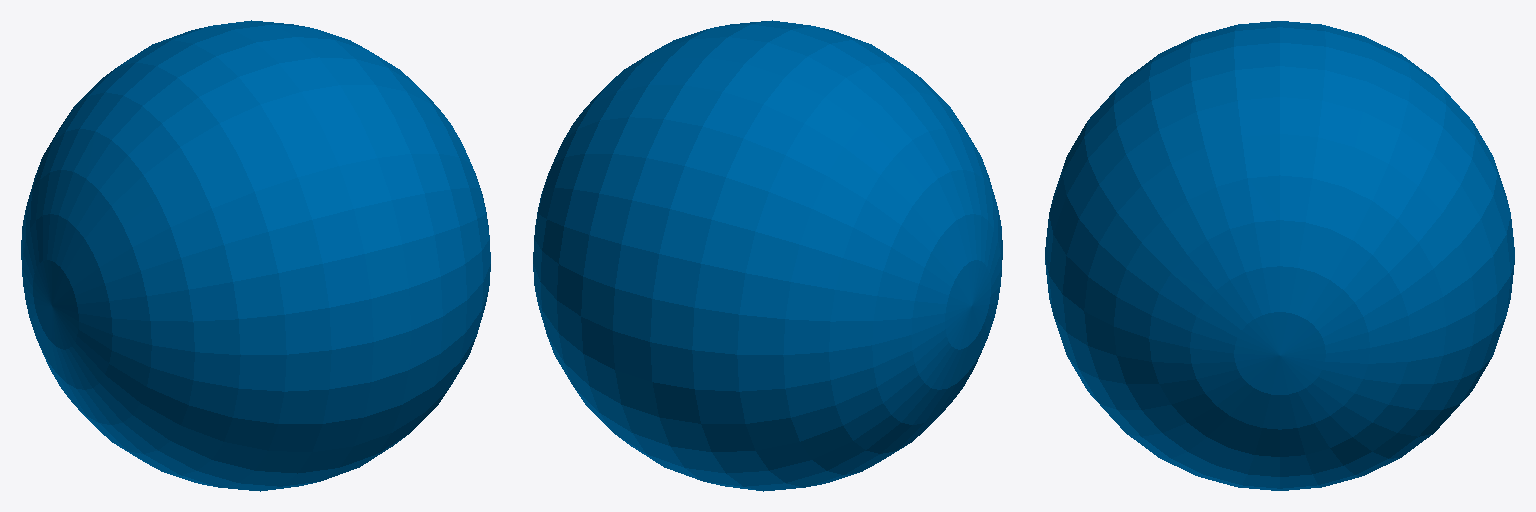
robot.urdf — panda:
<?xml version="1.0" ?>
<!-- =================================================================================== -->
<!-- |    This document was autogenerated by xacro from panda_arm_hand.urdf.xacro      | -->
<!-- |    EDITING THIS FILE BY HAND IS NOT RECOMMENDED                                 | -->
<!-- =================================================================================== -->
<robot name="panda" xmlns:xacro="http://www.ros.org/wiki/xacro">
  <link name="panda_link0">
    <visual>
      <geometry>
        <mesh filename="package://franka_description/meshes/visual/link0.dae"/>
      </geometry>
    </visual>
    <collision>
      <geometry>
        <mesh filename="package://franka_description/meshes/collision/link0.stl"/>
      </geometry>
    </collision>
  </link>
  <link name="panda_link1">
    <visual>
      <geometry>
        <mesh filename="package://franka_description/meshes/visual/link1.dae"/>
      </geometry>
    </visual>
    <collision>
      <geometry>
        <mesh filename="package://franka_description/meshes/collision/link1.stl"/>
      </geometry>
    </collision>
  </link>
  <joint name="panda_joint1" type="revolute">
    <safety_controller k_position="100.0" k_velocity="40.0" soft_lower_limit="-2.8973" soft_upper_limit="2.8973"/>
    <origin rpy="0 0 0" xyz="0 0 0.333"/>
    <parent link="panda_link0"/>
    <child link="panda_link1"/>
    <axis xyz="0 0 1"/>
    <limit effort="87" lower="-2.8973" upper="2.8973" velocity="2.1750"/>
  </joint>
  <link name="panda_link2">
    <visual>
      <geometry>
        <mesh filename="package://franka_description/meshes/visual/link2.dae"/>
      </geometry>
    </visual>
    <collision>
      <geometry>
        <mesh filename="package://franka_description/meshes/collision/link2.stl"/>
      </geometry>
    </collision>
  </link>
  <joint name="panda_joint2" type="revolute">
    <safety_controller k_position="100.0" k_velocity="40.0" soft_lower_limit="-1.7628" soft_upper_limit="1.7628"/>
    <origin rpy="-1.57079632679 0 0" xyz="0 0 0"/>
    <parent link="panda_link1"/>
    <child link="panda_link2"/>
    <axis xyz="0 0 1"/>
    <limit effort="87" lower="-1.7628" upper="1.7628" velocity="2.1750"/>
  </joint>
  <link name="panda_link3">
    <visual>
      <geometry>
        <mesh filename="package://franka_description/meshes/visual/link3.dae"/>
      </geometry>
    </visual>
    <collision>
      <geometry>
        <mesh filename="package://franka_description/meshes/collision/link3.stl"/>
      </geometry>
    </collision>
  </link>
  <joint name="panda_joint3" type="revolute">
    <safety_controller k_position="100.0" k_velocity="40.0" soft_lower_limit="-2.8973" soft_upper_limit="2.8973"/>
    <origin rpy="1.57079632679 0 0" xyz="0 -0.316 0"/>
    <parent link="panda_link2"/>
    <child link="panda_link3"/>
    <axis xyz="0 0 1"/>
    <limit effort="87" lower="-2.8973" upper="2.8973" velocity="2.1750"/>
  </joint>
  <link name="panda_link4">
    <visual>
      <geometry>
        <mesh filename="package://franka_description/meshes/visual/link4.dae"/>
      </geometry>
    </visual>
    <collision>
      <geometry>
        <mesh filename="package://franka_description/meshes/collision/link4.stl"/>
      </geometry>
    </collision>
  </link>
  <joint name="panda_joint4" type="revolute">
    <safety_controller k_position="100.0" k_velocity="40.0" soft_lower_limit="-3.0718" soft_upper_limit="-0.0698"/>
    <origin rpy="1.57079632679 0 0" xyz="0.0825 0 0"/>
    <parent link="panda_link3"/>
    <child link="panda_link4"/>
    <axis xyz="0 0 1"/>
    <limit effort="87" lower="-3.0718" upper="-0.0698" velocity="2.1750"/>
  </joint>
  <link name="panda_link5">
    <visual>
      <geometry>
        <mesh filename="package://franka_description/meshes/visual/link5.dae"/>
      </geometry>
    </visual>
    <collision>
      <geometry>
        <mesh filename="package://franka_description/meshes/collision/link5.stl"/>
      </geometry>
    </collision>
  </link>
  <joint name="panda_joint5" type="revolute">
    <safety_controller k_position="100.0" k_velocity="40.0" soft_lower_limit="-2.8973" soft_upper_limit="2.8973"/>
    <origin rpy="-1.57079632679 0 0" xyz="-0.0825 0.384 0"/>
    <parent link="panda_link4"/>
    <child link="panda_link5"/>
    <axis xyz="0 0 1"/>
    <limit effort="12" lower="-2.8973" upper="2.8973" velocity="2.6100"/>
  </joint>
  <link name="panda_link6">
    <visual>
      <geometry>
        <mesh filename="package://franka_description/meshes/visual/link6.dae"/>
      </geometry>
    </visual>
    <collision>
      <geometry>
        <mesh filename="package://franka_description/meshes/collision/link6.stl"/>
      </geometry>
    </collision>
  </link>
  <joint name="panda_joint6" type="revolute">
    <safety_controller k_position="100.0" k_velocity="40.0" soft_lower_limit="-0.0175" soft_upper_limit="3.7525"/>
    <origin rpy="1.57079632679 0 0" xyz="0 0 0"/>
    <parent link="panda_link5"/>
    <child link="panda_link6"/>
    <axis xyz="0 0 1"/>
    <limit effort="12" lower="-0.0175" upper="3.7525" velocity="2.6100"/>
  </joint>
  <link name="panda_link7">
    <visual>
      <geometry>
        <mesh filename="package://franka_description/meshes/visual/link7.dae"/>
      </geometry>
    </visual>
    <collision>
      <geometry>
        <mesh filename="package://franka_description/meshes/collision/link7.stl"/>
      </geometry>
    </collision>
  </link>
  <joint name="panda_joint7" type="revolute">
    <safety_controller k_position="100.0" k_velocity="40.0" soft_lower_limit="-2.8973" soft_upper_limit="2.8973"/>
    <origin rpy="1.57079632679 0 0" xyz="0.088 0 0"/>
    <parent link="panda_link6"/>
    <child link="panda_link7"/>
    <axis xyz="0 0 1"/>
    <limit effort="12" lower="-2.8973" upper="2.8973" velocity="2.6100"/>
  </joint>
  <link name="panda_link8"/>
  <joint name="panda_joint8" type="fixed">
    <origin rpy="0 0 0" xyz="0 0 0.107"/>
    <parent link="panda_link7"/>
    <child link="panda_link8"/>
    <axis xyz="0 0 0"/>
  </joint>
  <joint name="panda_hand_joint" type="fixed">
    <parent link="panda_link8"/>
    <child link="panda_hand"/>
    <origin rpy="0 0 -0.785398163397" xyz="0 0 0"/>
  </joint>
  <link name="panda_hand">
    <visual>
      <geometry>
        <mesh filename="package://franka_description/meshes/visual/hand.dae"/>
      </geometry>
    </visual>
    <collision>
      <geometry>
        <mesh filename="package://franka_description/meshes/collision/hand.stl"/>
      </geometry>
    </collision>
  </link>
  <link name="panda_leftfinger">
    <visual>
      <geometry>
        <mesh filename="package://franka_description/meshes/visual/finger.dae"/>
      </geometry>
    </visual>
    <collision>
      <geometry>
        <mesh filename="package://franka_description/meshes/collision/finger.stl"/>
      </geometry>
    </collision>
  </link>
  <link name="panda_rightfinger">
    <visual>
      <origin rpy="0 0 3.14159265359" xyz="0 0 0"/>
      <geometry>
        <mesh filename="package://franka_description/meshes/visual/finger.dae"/>
      </geometry>
    </visual>
    <collision>
      <origin rpy="0 0 3.14159265359" xyz="0 0 0"/>
      <geometry>
        <mesh filename="package://franka_description/meshes/collision/finger.stl"/>
      </geometry>
    </collision>
  </link>
  <joint name="panda_finger_joint1" type="prismatic">
    <parent link="panda_hand"/>
    <child link="panda_leftfinger"/>
    <origin rpy="0 0 0" xyz="0 0 0.0584"/>
    <axis xyz="0 1 0"/>
    <limit effort="20" lower="0.0" upper="0.04" velocity="0.2"/>
  </joint>
  <joint name="panda_finger_joint2" type="prismatic">
    <parent link="panda_hand"/>
    <child link="panda_rightfinger"/>
    <origin rpy="0 0 0" xyz="0 0 0.0584"/>
    <axis xyz="0 -1 0"/>
    <limit effort="20" lower="0.0" upper="0.04" velocity="0.2"/>
    <mimic joint="panda_finger_joint1"/>
  </joint>
  
  <link name="tcp_link">
    <visual> 
      <geometry>
        <sphere radius="0.002"></sphere>
      </geometry>
    </visual>
  </link>
  <joint name="tcp_joint" type="fixed">
    <origin rpy="0 0 0" xyz="0.0 0 0.1"/>
    <parent link="panda_hand"/>
    <child link="tcp_link"/>
  </joint>
</robot>

--- What the picture shows (computed from the rendered views, not written in the file) ---
Views: 3 orthographic renders of the robot side by side, from view 1: azimuth 30°, elevation 25°; view 2: azimuth 150°, elevation 25°; view 3: azimuth 270°, elevation 25°.
Model panda with 13 links and 12 joints (7 revolute, 2 prismatic, 3 fixed), rooted at panda_link0, posed joints at zero except 1 at the middle of their limits (panda_joint4 = -1.57).
Visible links, largest first — view 1: tcp_link; view 2: tcp_link; view 3: tcp_link.
Link boxes in pixels (x1,y1,x2,y2): tcp_link: (21, 20, 490, 491); tcp_link: (533, 20, 1002, 491); tcp_link: (1045, 21, 1514, 490).
Bounding box of the posed robot: 0.004 × 0.004 × 0.004 m (x, y, z).
0 mesh visuals loaded from 10 distinct referenced files (none loaded); not drawn: 11 (reference not matched to a file when rendering).